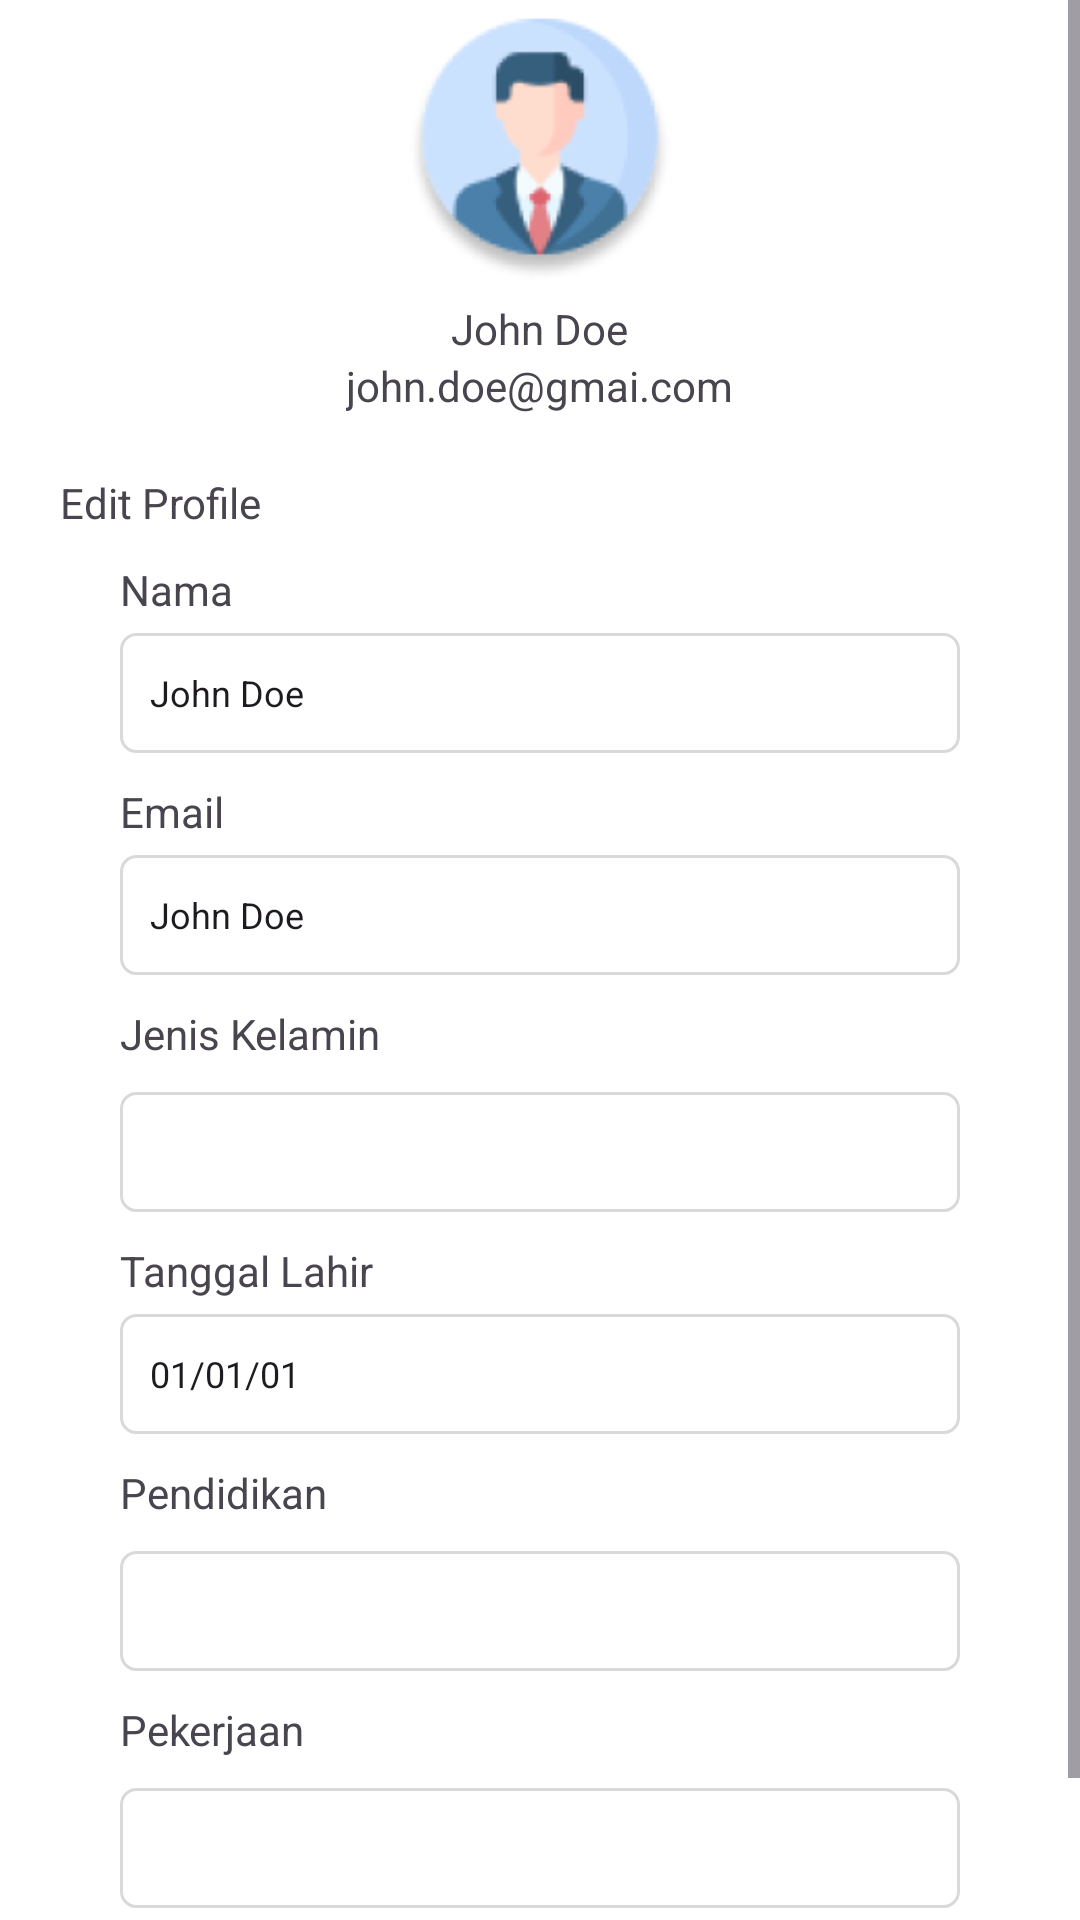

Icon bounding boxes for this 1080*1920 phone screenshot, format rect(x1, y1, x2, y2):
iconprofilenav: rect(420, 18, 660, 270)
